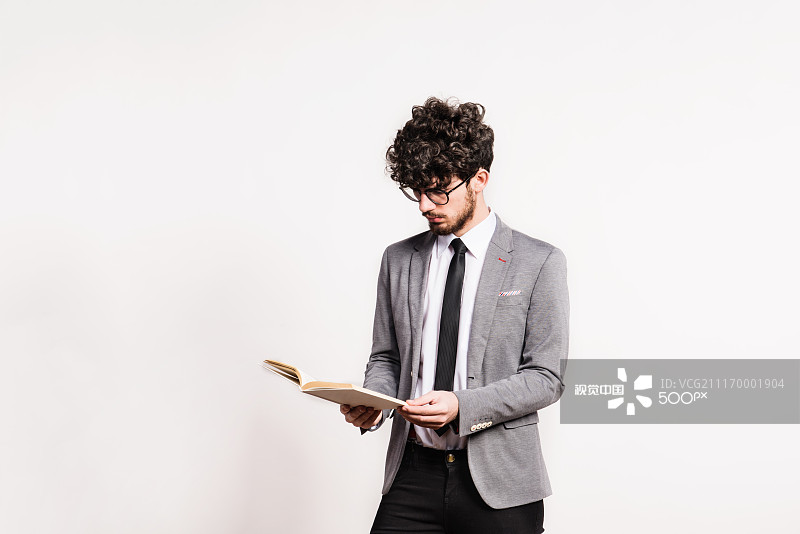no-phone: (395, 379, 467, 434), (336, 389, 389, 441)
